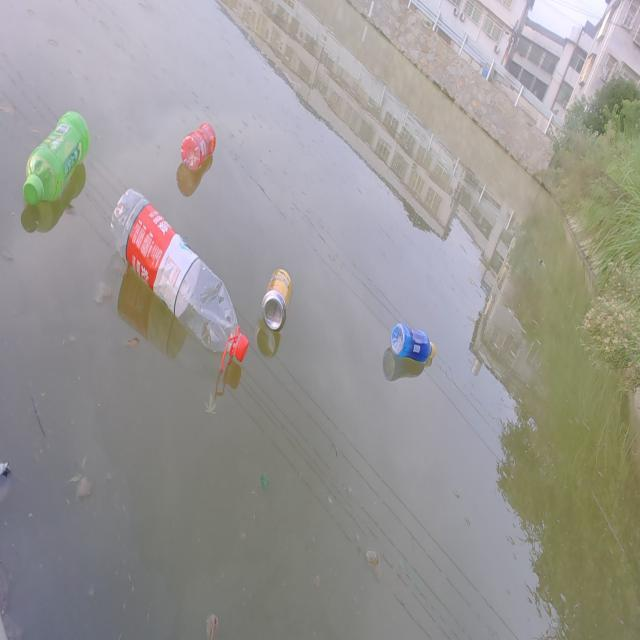bottle: (103, 180, 257, 370), (12, 96, 99, 224), (376, 300, 444, 373), (177, 116, 221, 174)
